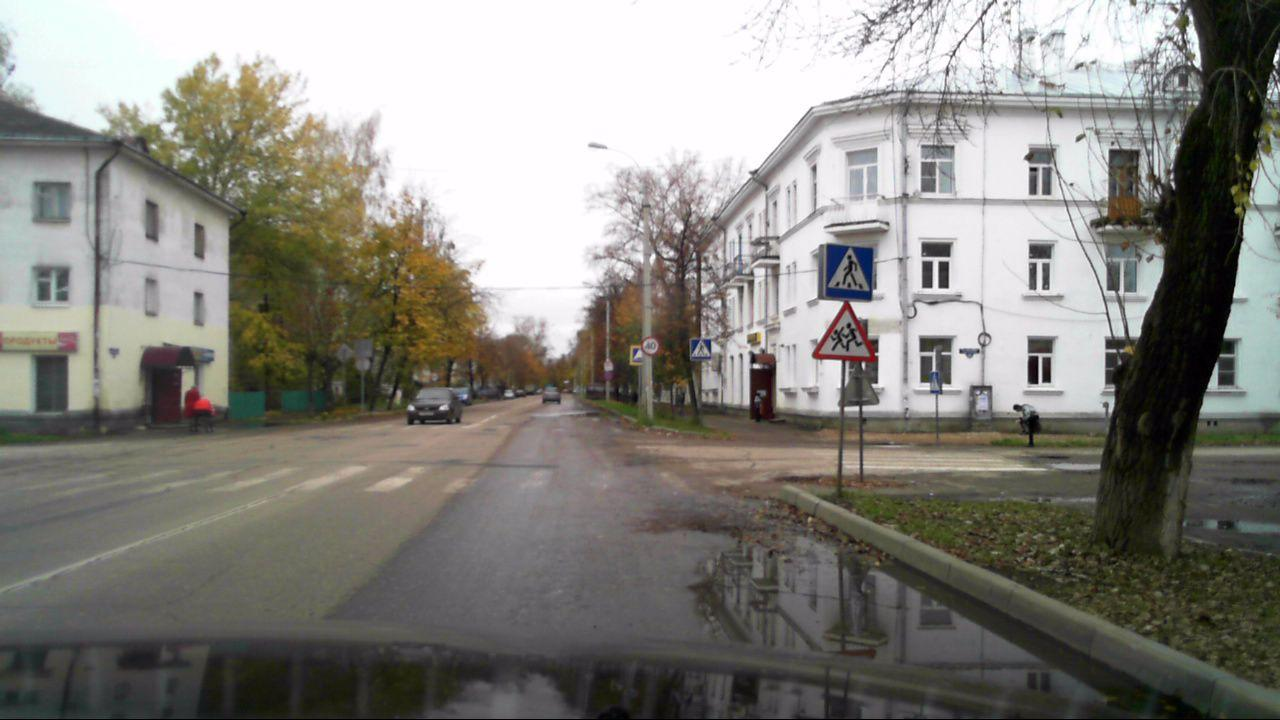obstructed_road_sign: (629, 344, 644, 366)
road_sign: (809, 298, 878, 361), (822, 243, 874, 305), (690, 338, 712, 361), (641, 335, 661, 355)
